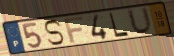4: (90, 13, 109, 41)
5: (20, 21, 44, 50)
F: (63, 15, 85, 44)
L: (108, 12, 131, 39)
S: (43, 19, 66, 47)
U: (126, 6, 154, 37)
